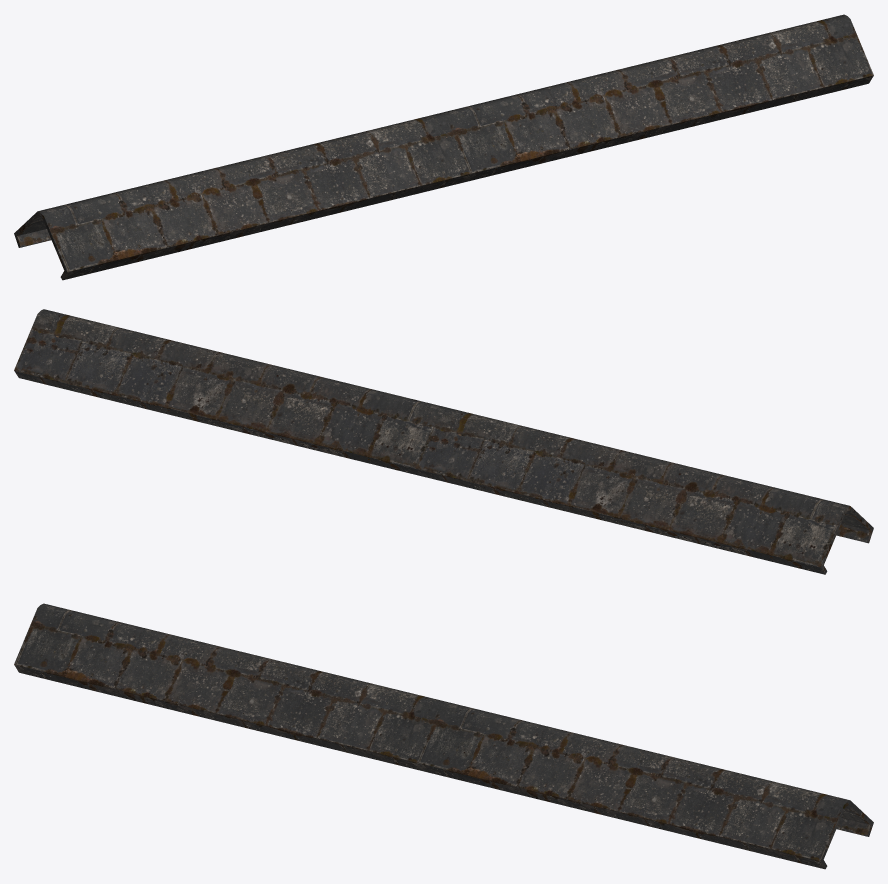
The model's file is Roof_Top.fbx.
The picture shows the model from 3 angles, top to bottom: view 1: azimuth 30°, elevation 25°; view 2: azimuth 150°, elevation 25°; view 3: azimuth 330°, elevation 25°; orthographic projection.
Visible parts, largest first — view 1: Roof_Top; view 2: Roof_Top; view 3: Roof_Top.
Boxes of the visible parts, bbox=[...] form: Roof_Top: bbox=[14, 14, 873, 280]; Roof_Top: bbox=[14, 309, 873, 574]; Roof_Top: bbox=[14, 603, 873, 869].
Size of the model in its own units: 401 by 24.65 by 45.93.
